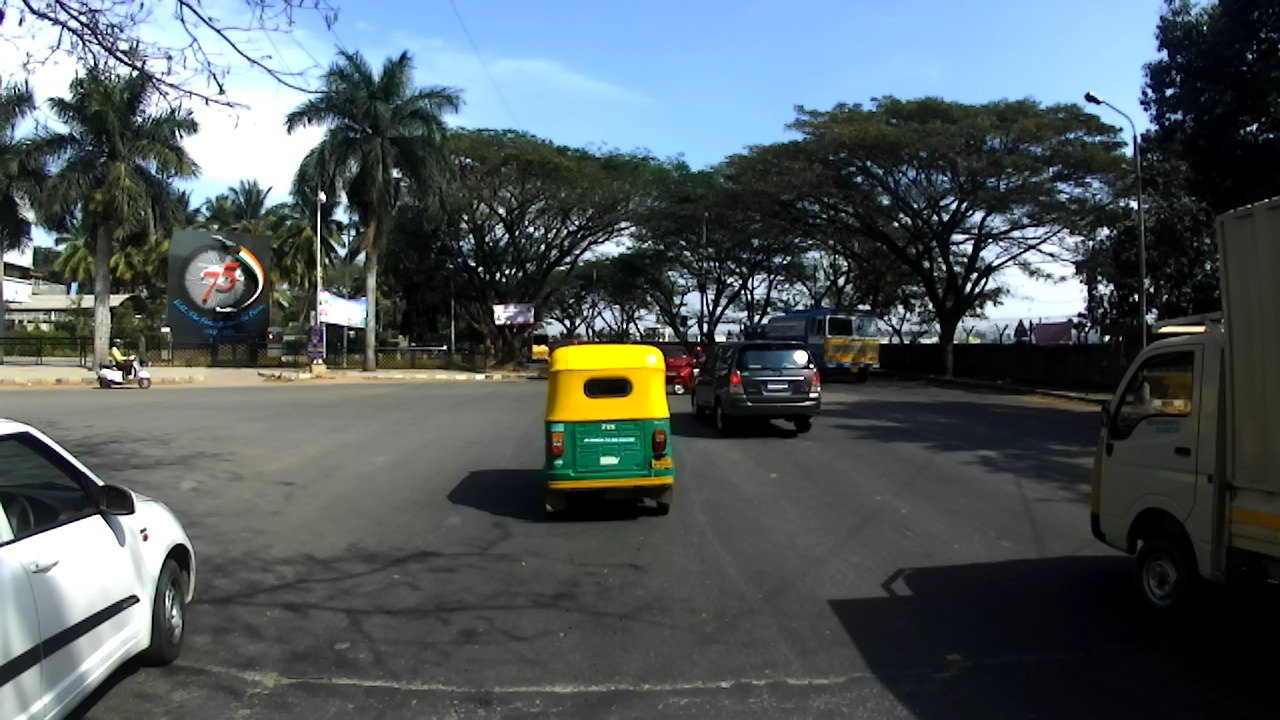autorickshaw: (540, 341, 674, 523)
car: (1, 416, 195, 718), (688, 339, 823, 433), (650, 345, 694, 380), (551, 339, 590, 347)
motorcycle: (96, 353, 152, 391), (671, 358, 702, 396)
rider: (110, 339, 136, 381), (689, 343, 705, 383)
truck: (1089, 198, 1279, 629), (762, 305, 881, 382), (526, 331, 550, 365)
